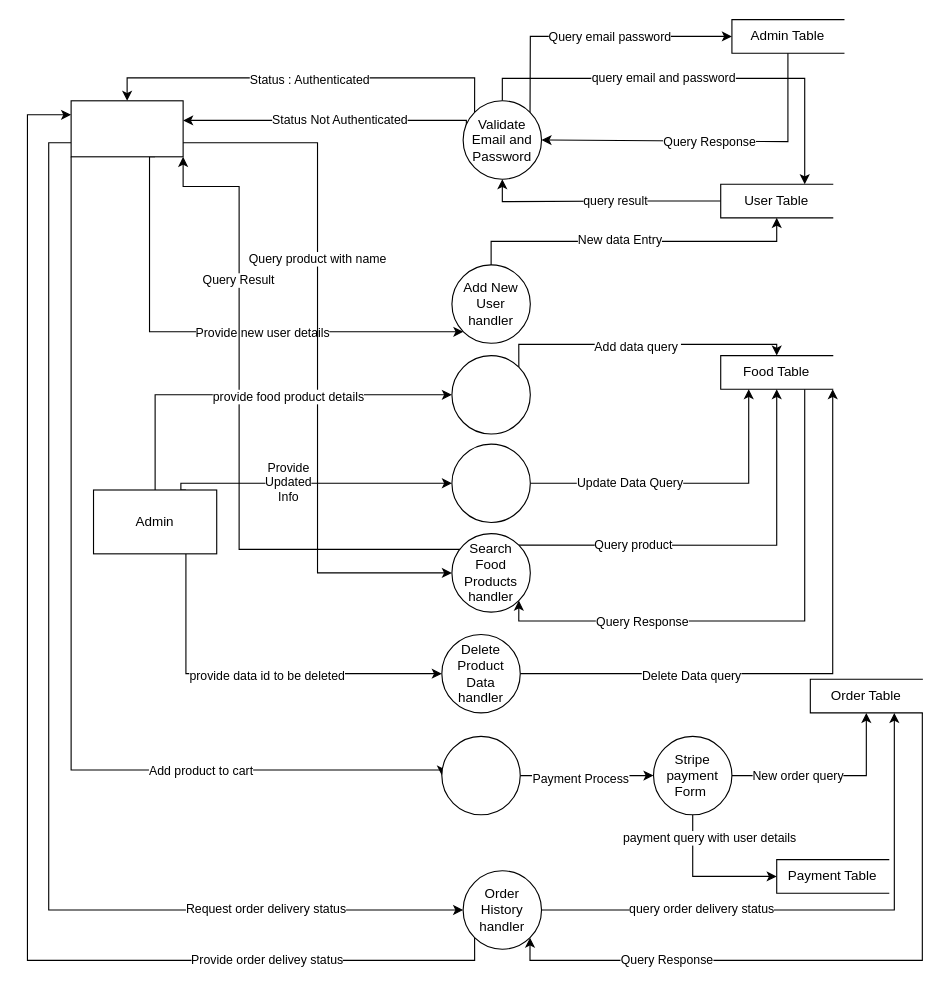
The diagram is 951 pixels wide and 989 high, and some of its shapes have lost their labels. Each missing label, with the centre of its shape:
Add Product Data handler: point 490,394
Entry Order: point 480,775
Update Product Data handler: point 490,482
User: point 126,128
